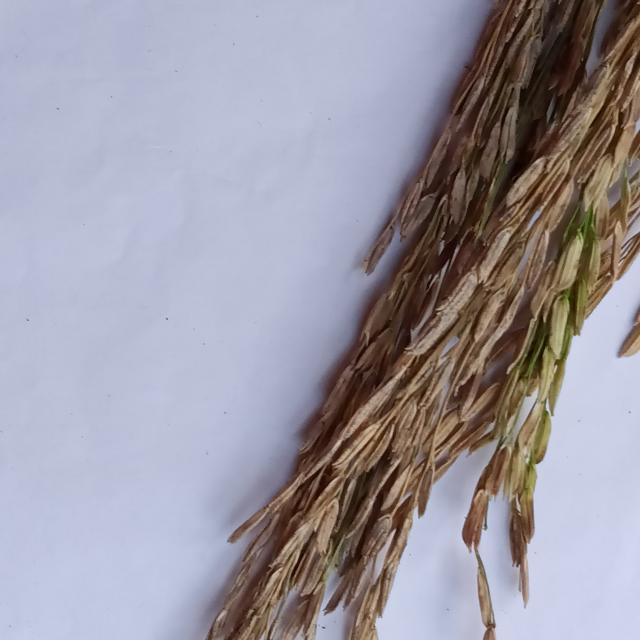Neck_Blast: (183, 0, 640, 640)
